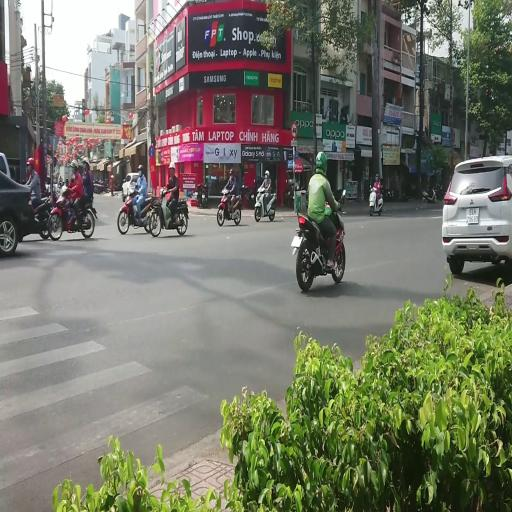bikes: (291, 188, 347, 291), (0, 185, 56, 255), (46, 187, 96, 240), (33, 177, 68, 239), (117, 187, 158, 235), (149, 188, 189, 236), (216, 188, 242, 226), (32, 196, 53, 240), (254, 190, 276, 222), (244, 177, 261, 208), (122, 173, 140, 202), (369, 184, 383, 216), (283, 178, 299, 206), (195, 182, 208, 208), (241, 185, 254, 208), (85, 196, 98, 219), (422, 187, 437, 203), (93, 178, 108, 194), (57, 176, 68, 189)
helmet: (315, 151, 327, 174), (82, 156, 90, 167), (26, 157, 34, 167), (70, 160, 78, 170), (129, 183, 136, 194), (61, 185, 68, 195), (137, 164, 143, 174), (168, 162, 175, 169), (229, 168, 234, 176), (376, 183, 381, 191), (58, 175, 63, 182), (71, 173, 75, 181), (265, 170, 269, 177), (375, 174, 379, 181), (370, 176, 373, 183), (110, 174, 114, 178), (370, 184, 372, 190)
